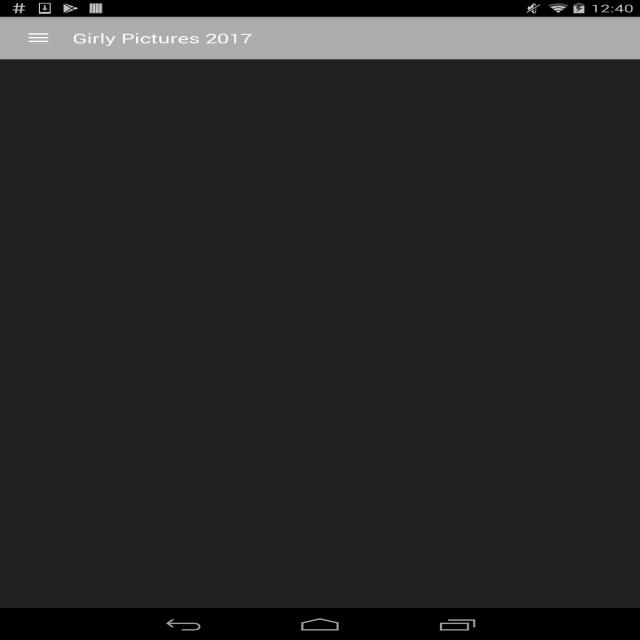ImageButton: (27, 24, 54, 50)
TextView: (70, 27, 286, 54)
